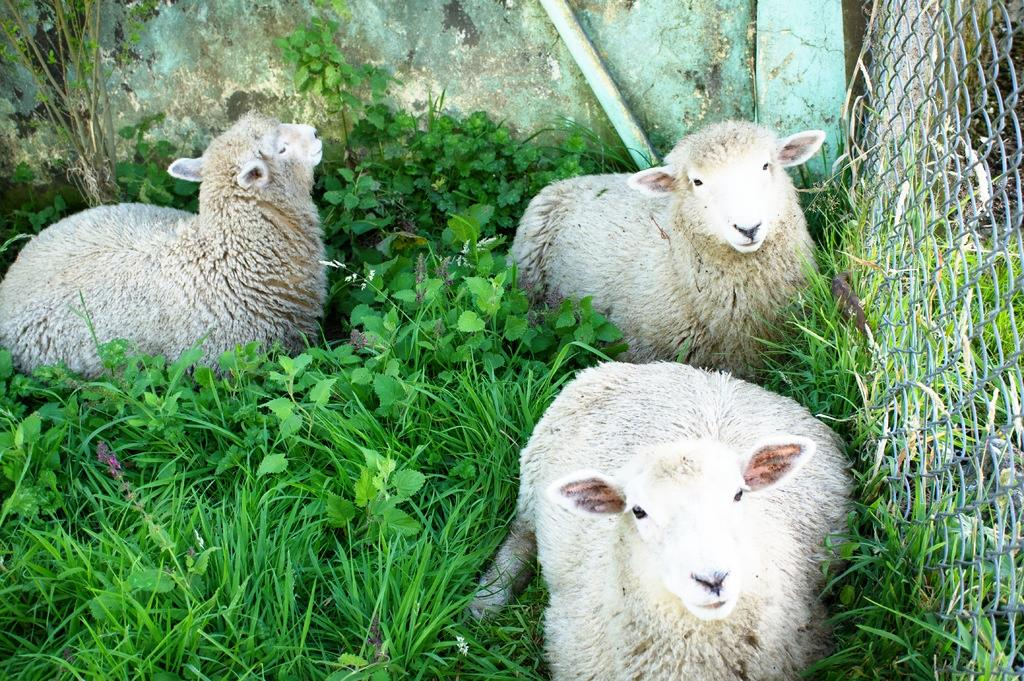Sheep: (461, 358, 863, 681), (0, 109, 328, 399), (498, 116, 828, 382)
